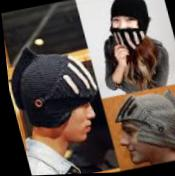NONE: (55, 90, 101, 145), (111, 118, 160, 166)
WRONG: (106, 11, 146, 55)
